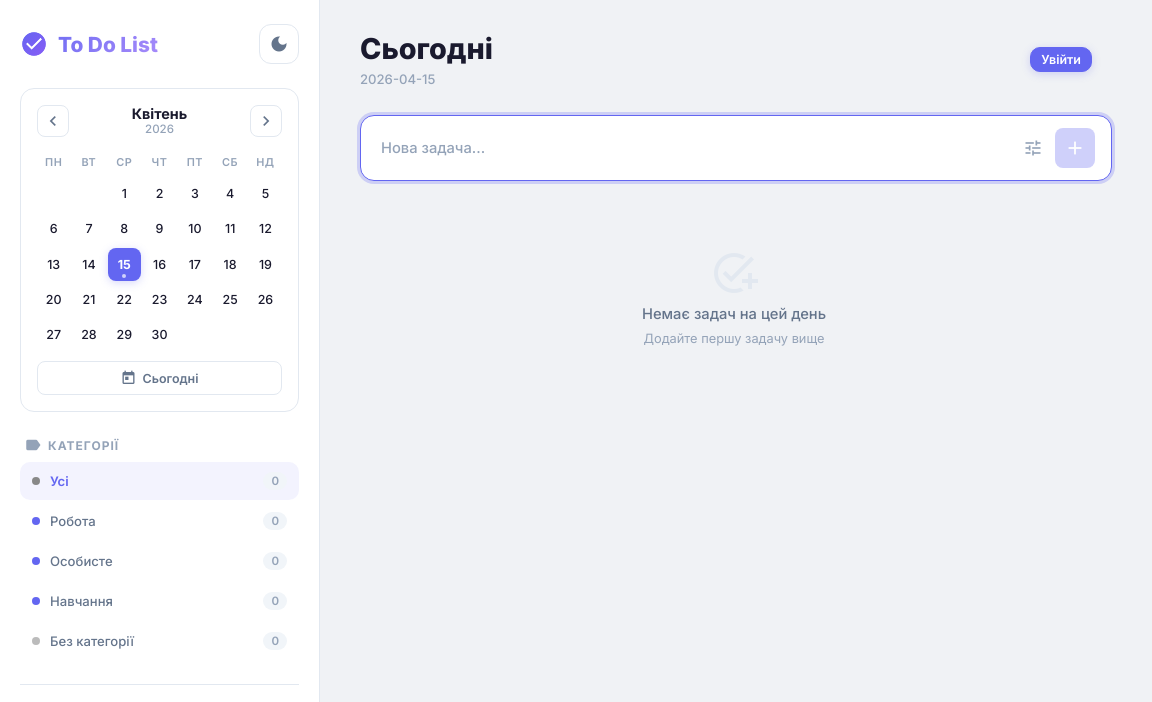
Test: Редагування задачі › повинно дозволити редагувати текст задачі
# Додаємо задачу
Type "Старий текст" into the field with placeholder "Нова задача..." at (694, 148), box [377, 130, 1011, 164]
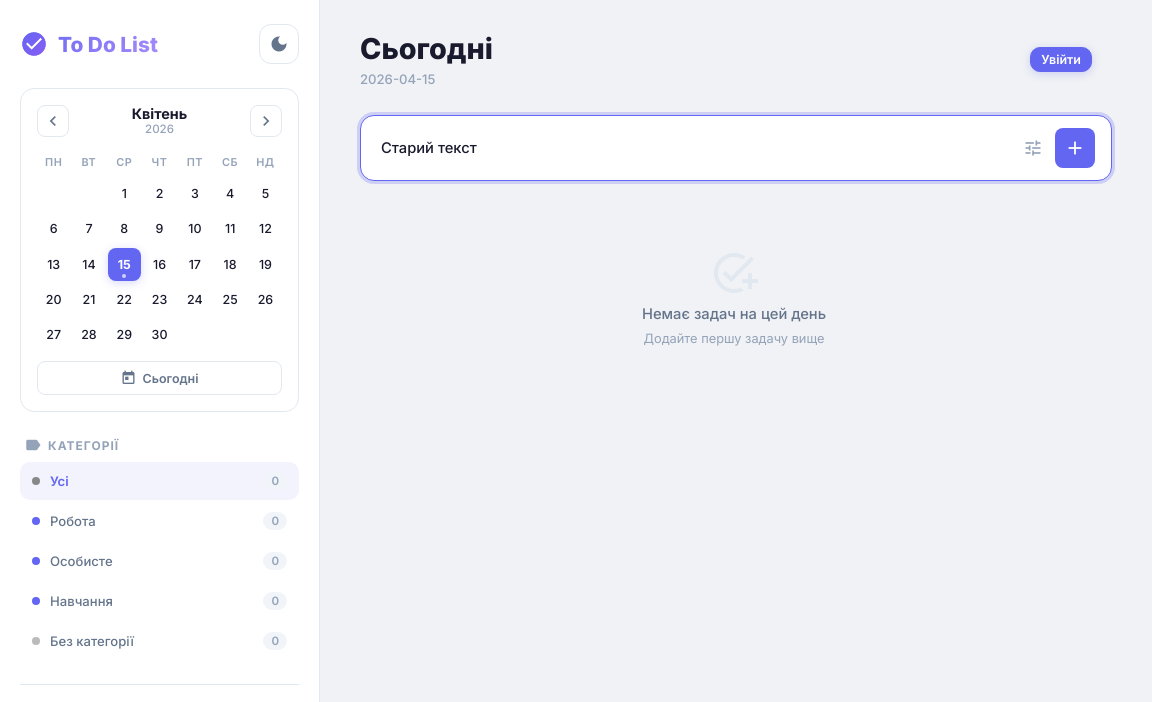
Click the 3rd button named "add" at (1075, 148), box [1055, 128, 1095, 168]
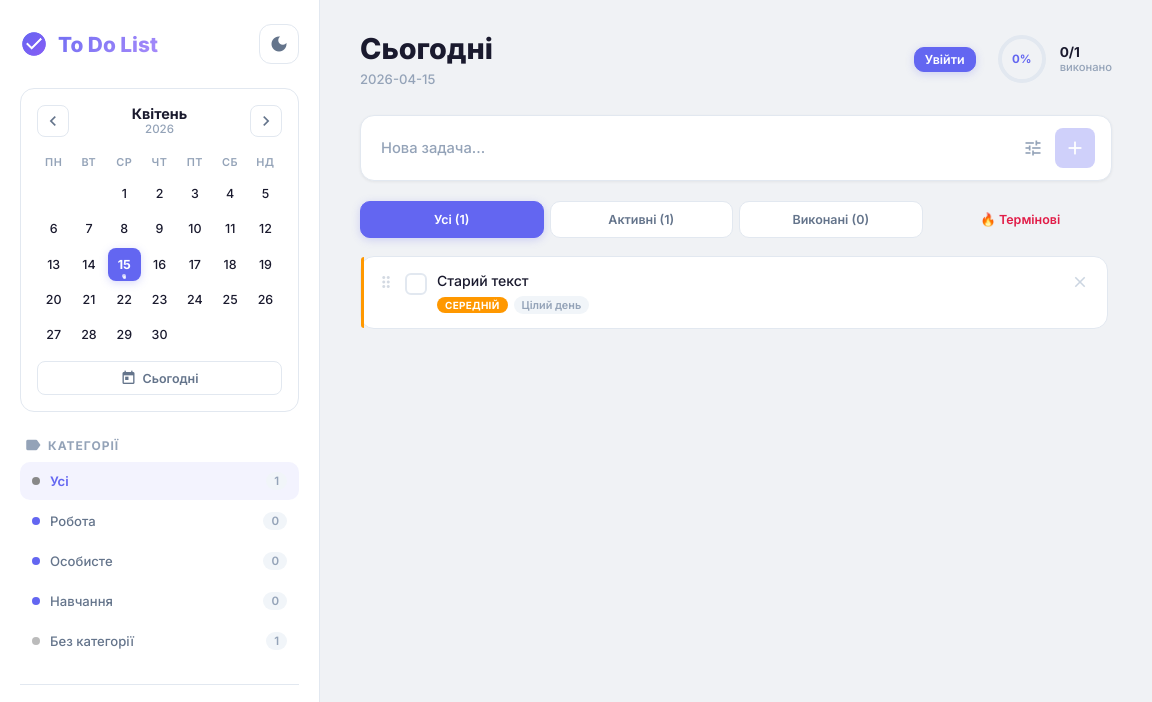
# Клікаємо на текст задачі для редагування
Click the text "Старий текст" at (483, 280), box [437, 272, 529, 288]
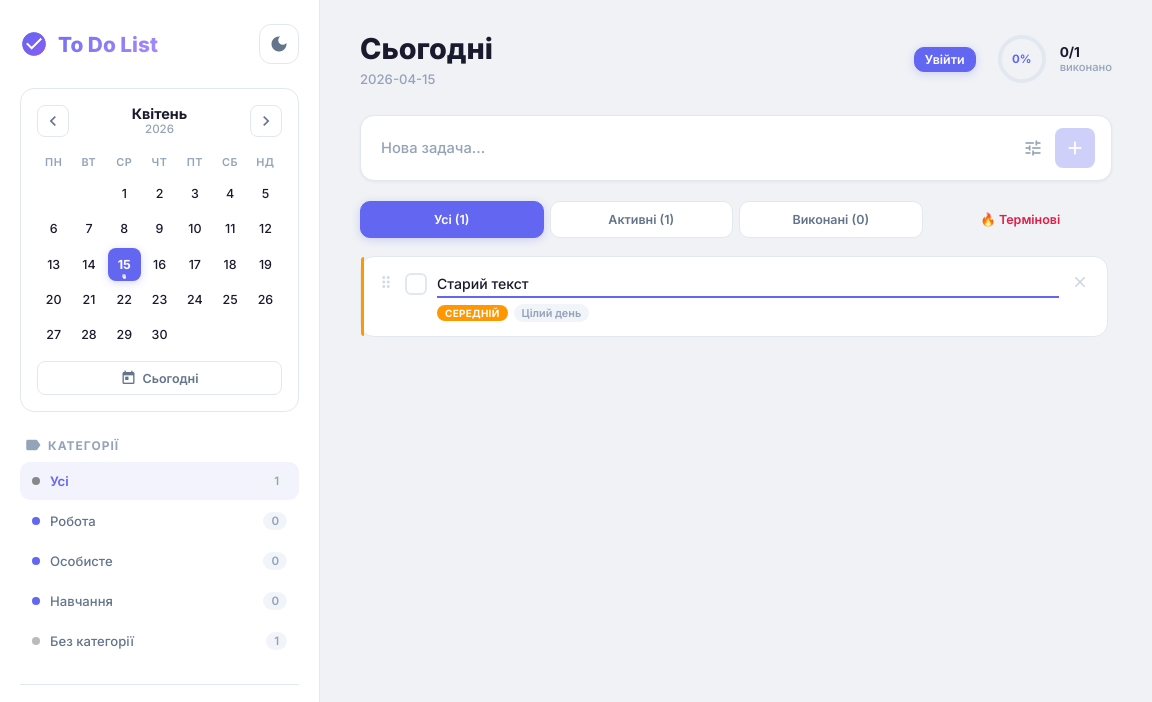
# Знаходимо edit-input, очищаємо та вводимо новий текст
Replace the text in the field showing "Старий текст" with "Новий текст" at (748, 284), box [437, 270, 1059, 298]
Then press Enter
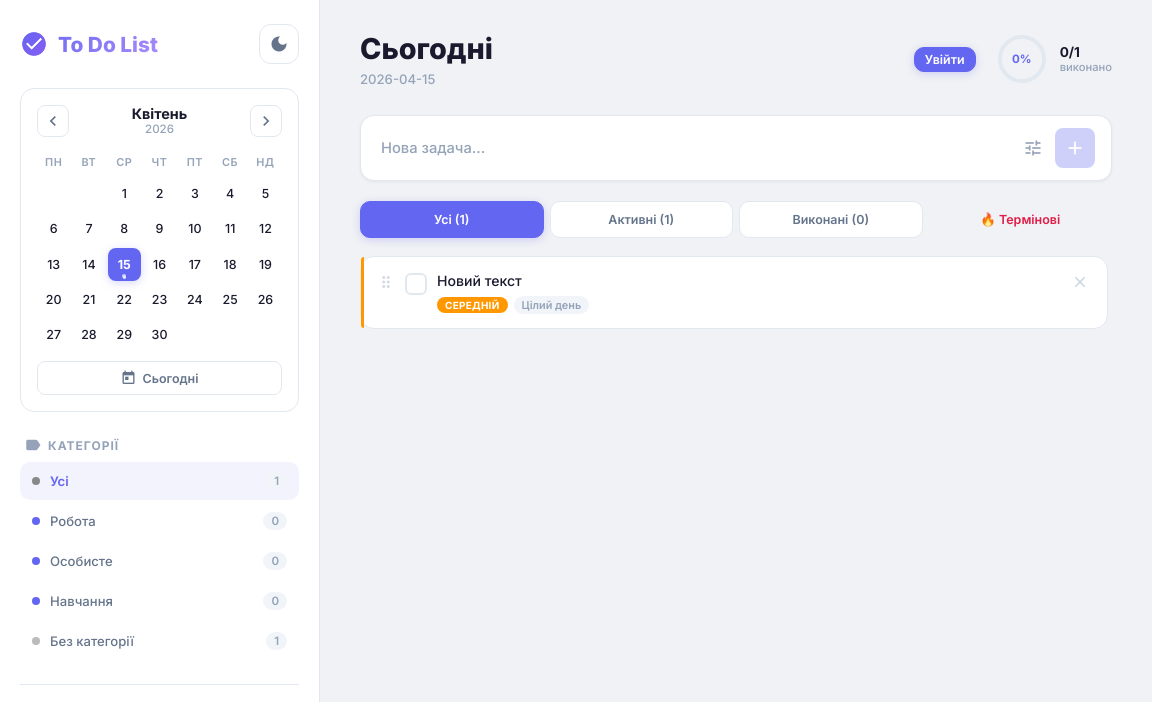
Check: the text "Старий текст" is not shown
Check: the text "Новий текст" is shown, box [437, 272, 522, 288]
